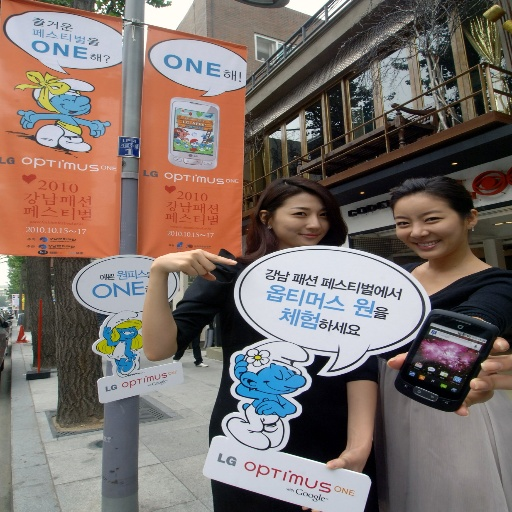hand: (384, 315, 511, 415), (299, 449, 367, 511), (150, 243, 241, 277)
